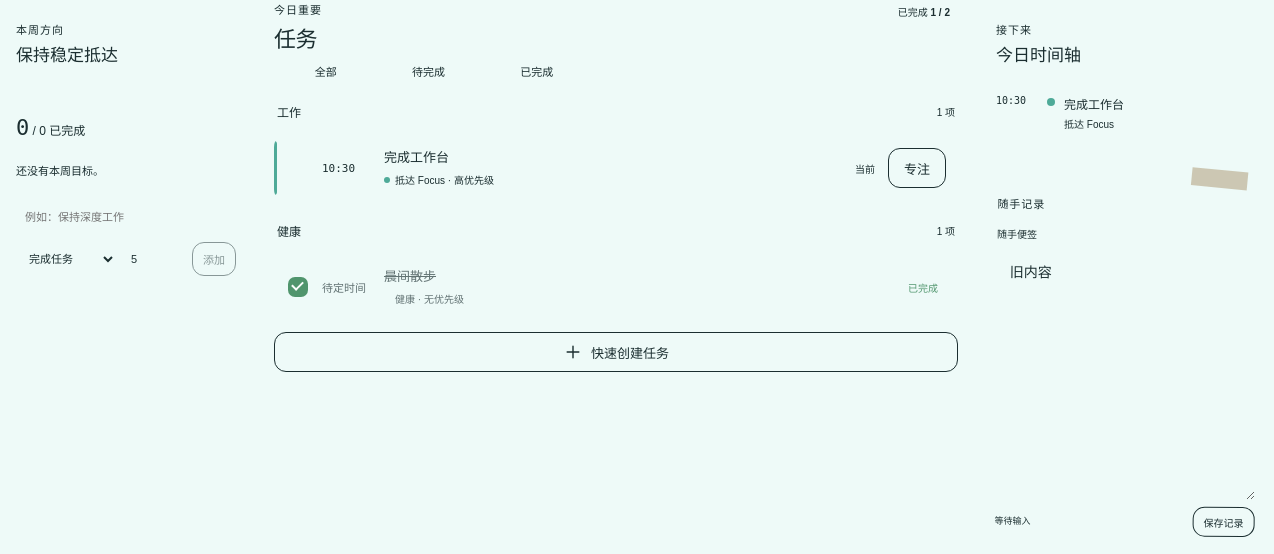
Test: TodayWorkspace › auto-saves a note after 500ms of inactivity
Step 1. Replace the text in the text box labelled "随手便签" with "新的临时想法" → (1126, 374), box [995,249,1257,500]
Wait 500 ms
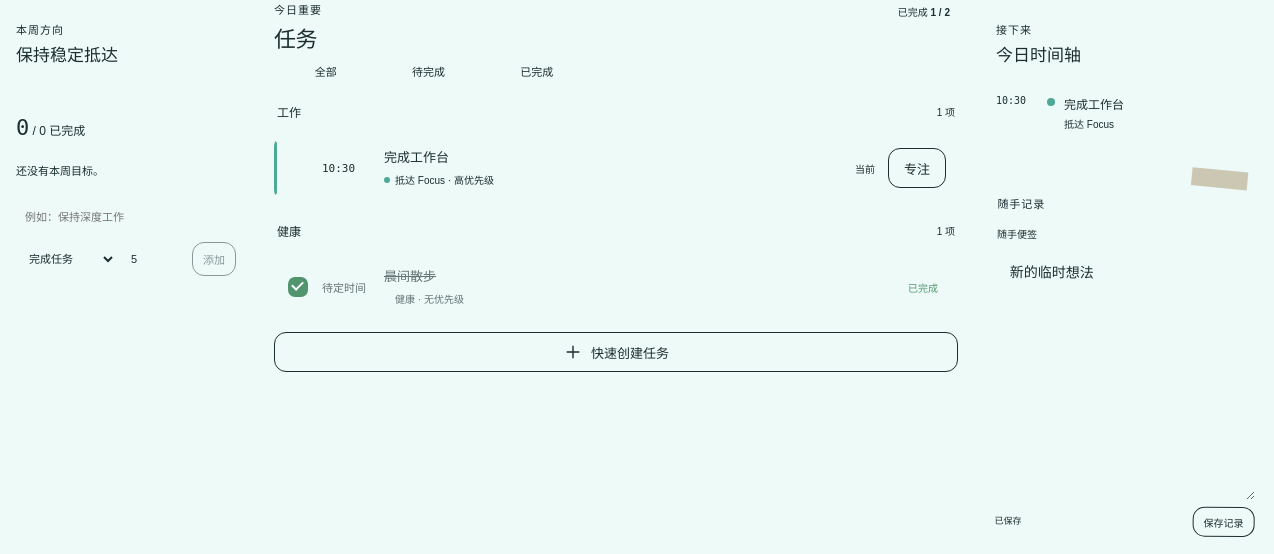
Check: the message reads "已保存", box [995,515,1022,526]
